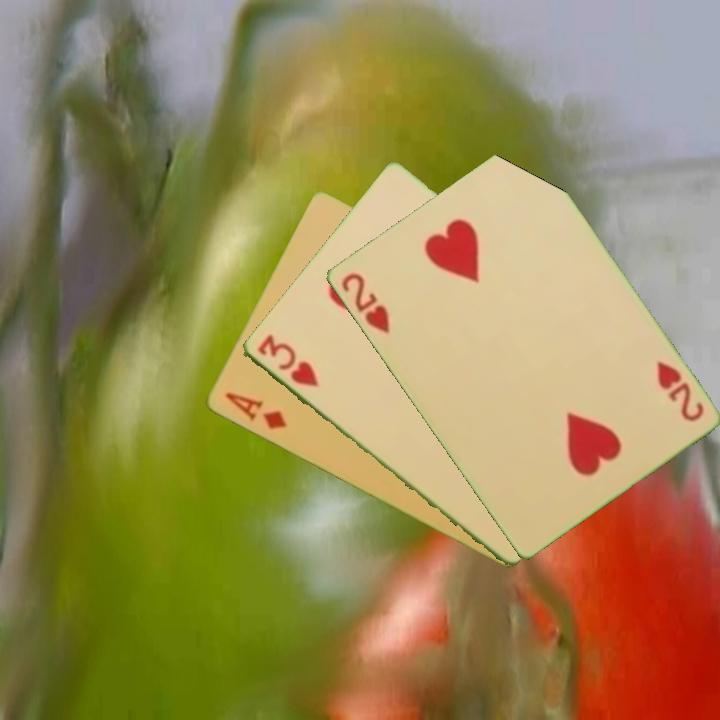2h: (337, 269, 393, 337), (652, 357, 706, 425)
3h: (253, 330, 321, 390)
Ad: (221, 388, 289, 433)
